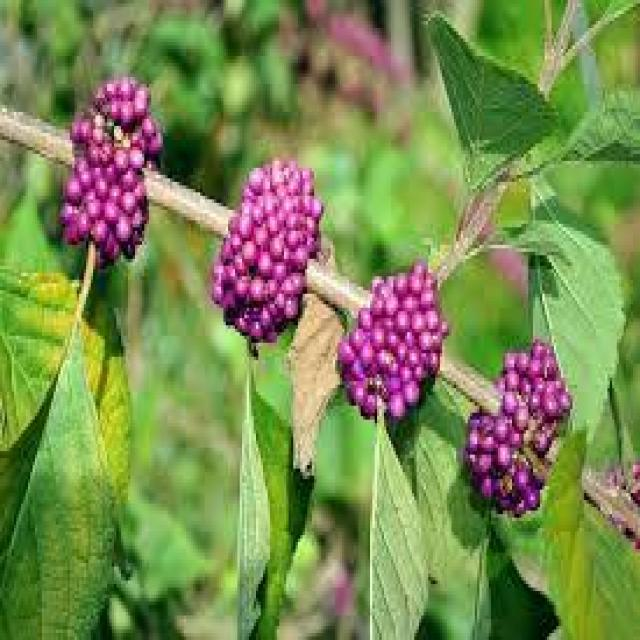organic waste: (211, 150, 327, 340), (459, 330, 574, 520), (72, 78, 161, 260), (349, 264, 431, 425)
